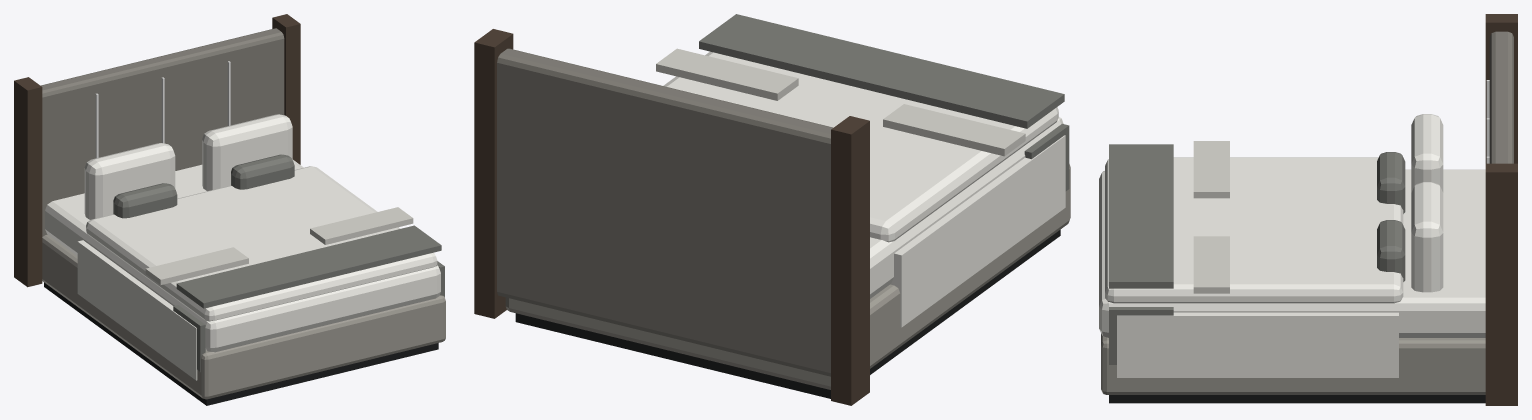
3 renders of one model, left to right at view 1: azimuth 30°, elevation 25°; view 2: azimuth 150°, elevation 25°; view 3: azimuth 270°, elevation 25°, orthographic. The views are drawn at different scales.
Parts seen in each view (by area): view 1: double-bed; view 2: double-bed; view 3: double-bed.
Boxes of the visible parts, left/top/right/bottom form: double-bed: left=14, top=14, right=445, bottom=405; double-bed: left=474, top=14, right=1070, bottom=405; double-bed: left=1099, top=14, right=1517, bottom=405.
Bounding box in the file's own units: 1.86 × 1.33 × 2.08.
